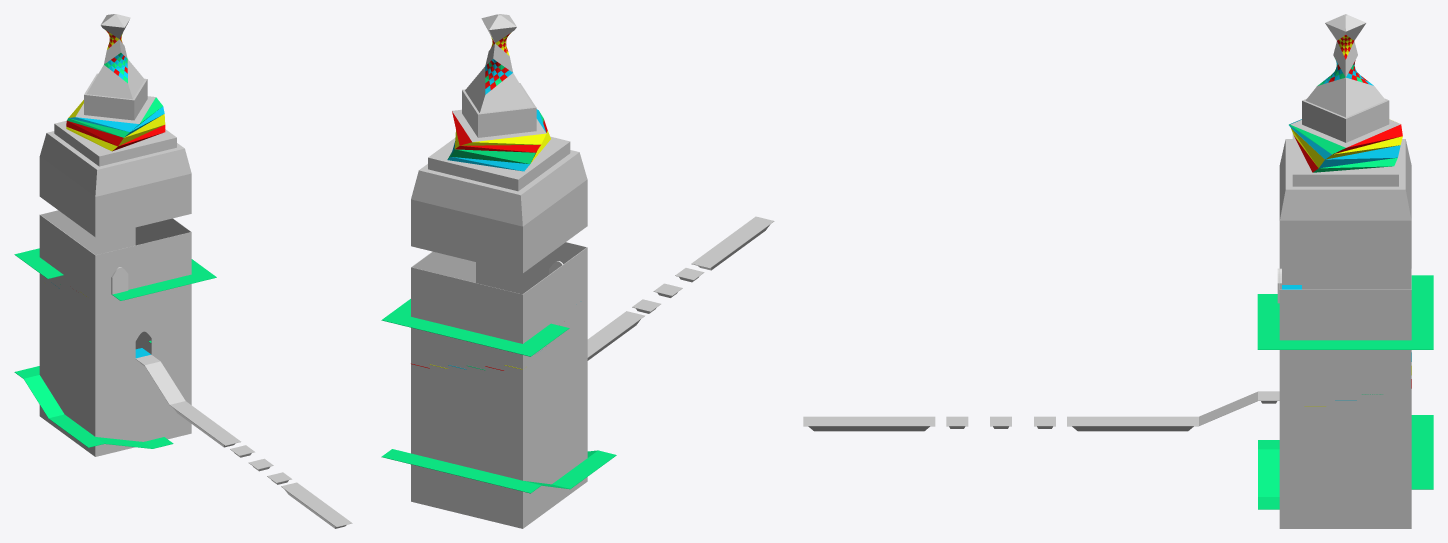
Rendered from castle.dae.
The picture shows the model from 3 angles, left to right: view 1: azimuth 30°, elevation 25°; view 2: azimuth 150°, elevation 25°; view 3: azimuth 270°, elevation 25°; orthographic projection. The views are drawn at different scales.
Visible parts, largest first — view 1: Cube.007, Cube.008; view 2: Cube.007; view 3: Cube.007.
Boxes of the visible parts, left/top/right/bottom form: Cube.007: left=14, top=14, right=352, bottom=528; Cube.008: left=111, top=267, right=128, bottom=294; Cube.007: left=381, top=14, right=774, bottom=528; Cube.007: left=803, top=14, right=1433, bottom=528.
Size of the model in its own units: 80 by 287 by 244.
